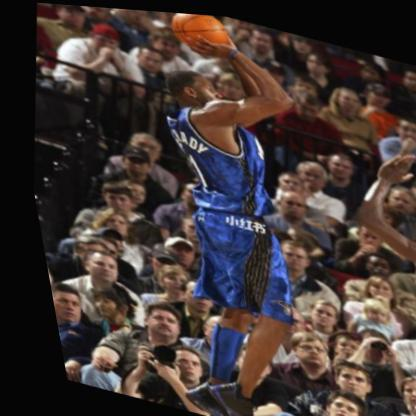basketball: (166, 10, 232, 52)
